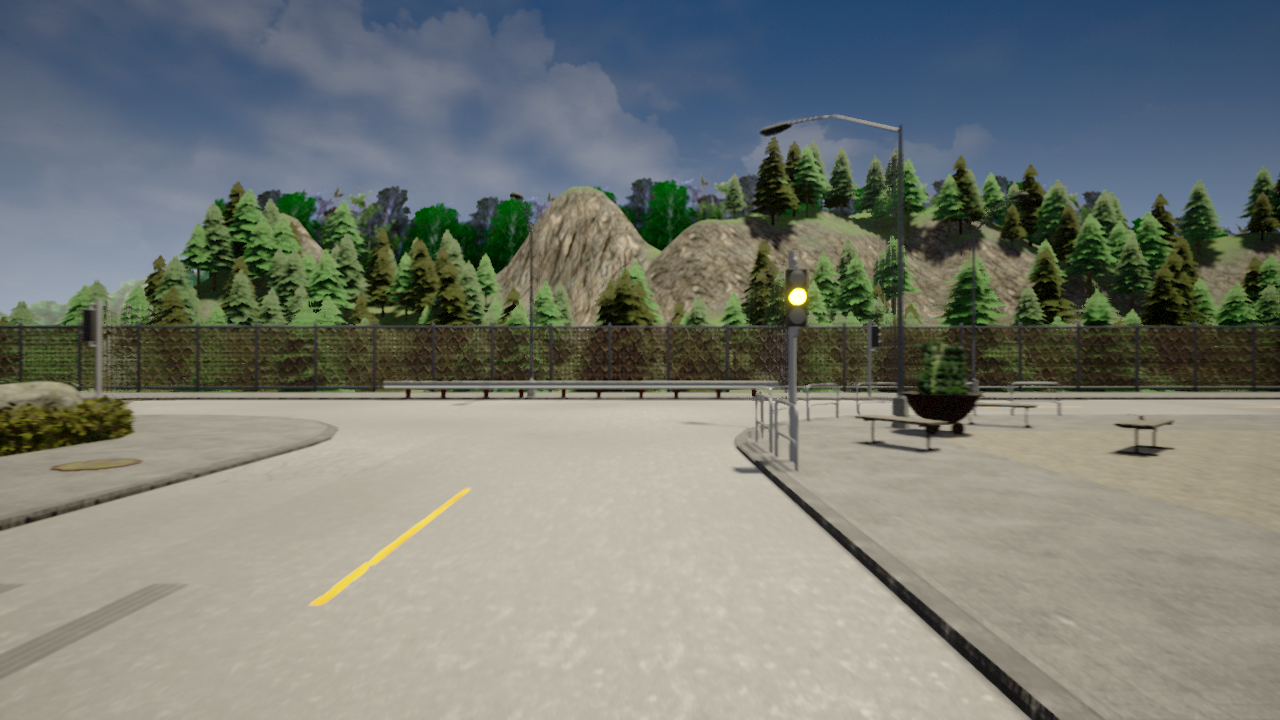yellow: (782, 268, 811, 332)
